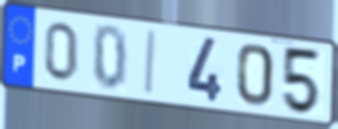0: (235, 42, 277, 110), (91, 24, 130, 94), (41, 21, 82, 85)
4: (185, 35, 227, 106)
5: (279, 44, 327, 117)
I: (142, 28, 159, 98)
